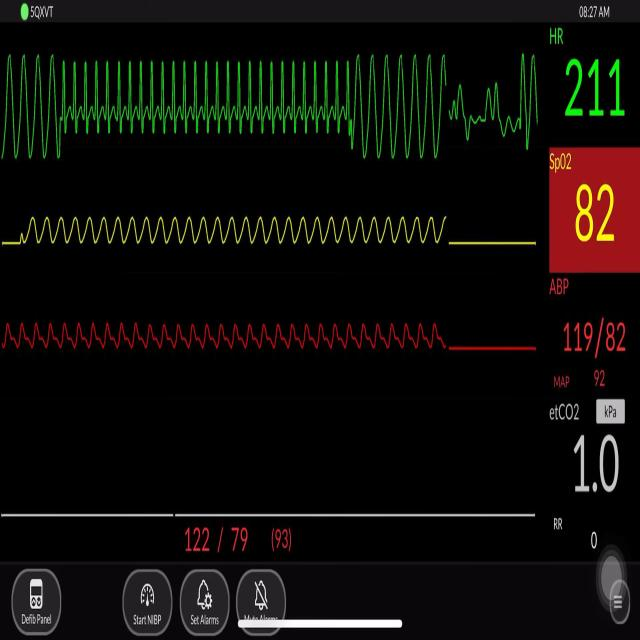danger: (70, 49, 352, 148), (359, 47, 452, 167), (6, 42, 62, 170)
